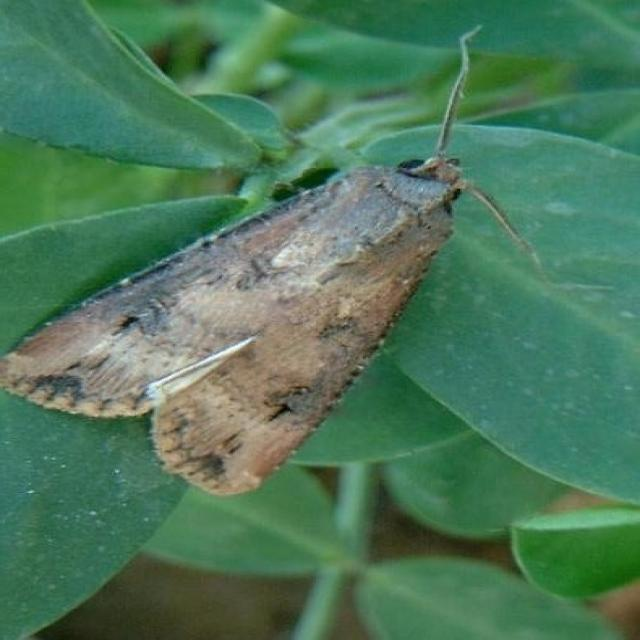black cutworm: (1, 128, 507, 520)
